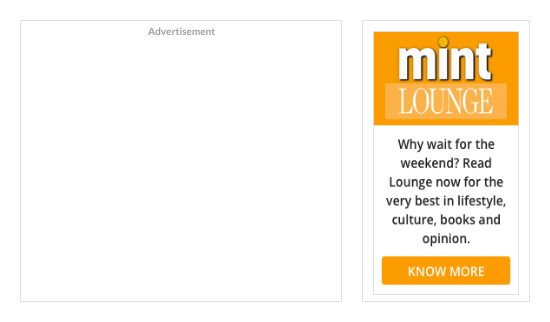fake_button: (377, 253, 514, 290)
